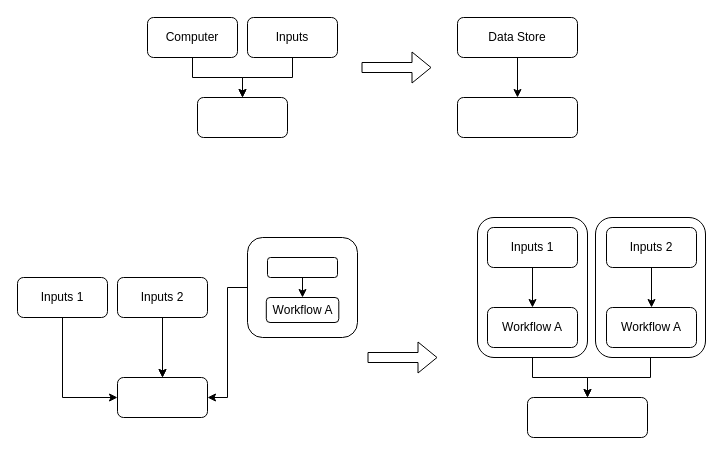
This 723x455 diagram has some shape labels left out. The shapes that lost their labels are listed below. From the top down, each one's centre as x and y in pixels, then its label:
(x=242, y=117): Workflow
(x=517, y=117): Workflow Result Reference
(x=302, y=267): Inputs 3
(x=162, y=397): Mapping Workflow
(x=587, y=417): Reducing Workflow
